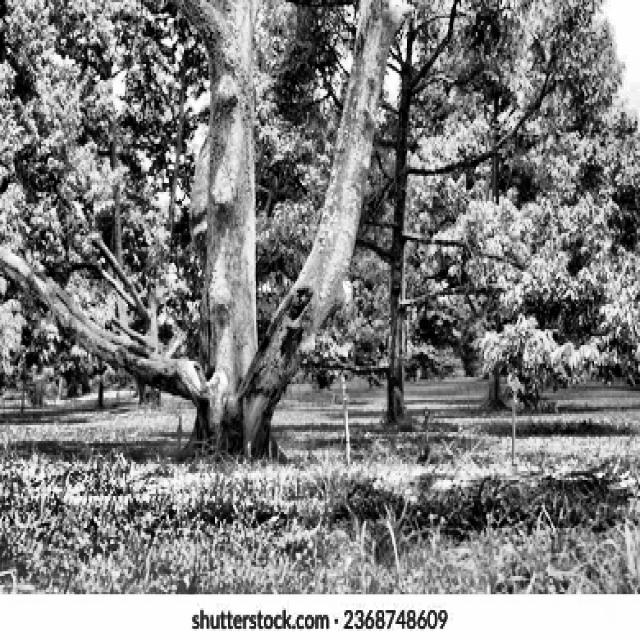arvore: (178, 0, 278, 480), (373, 8, 419, 442), (126, 198, 174, 421)
